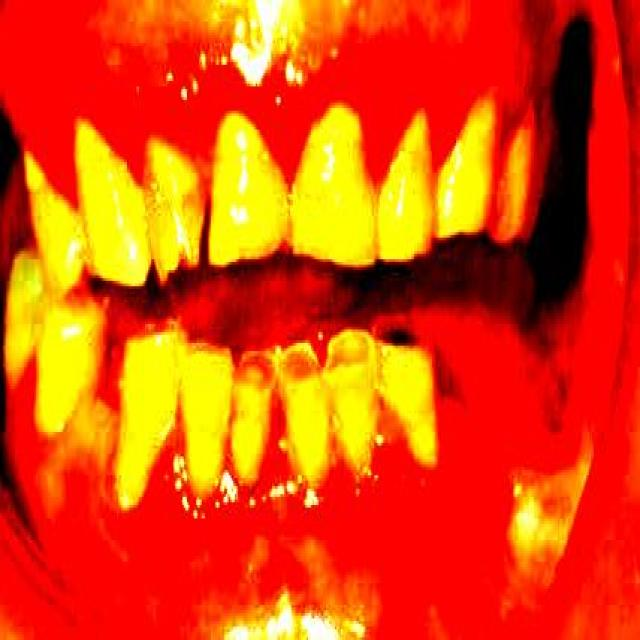caries: (324, 323, 372, 384), (236, 343, 283, 403), (279, 340, 325, 400)
